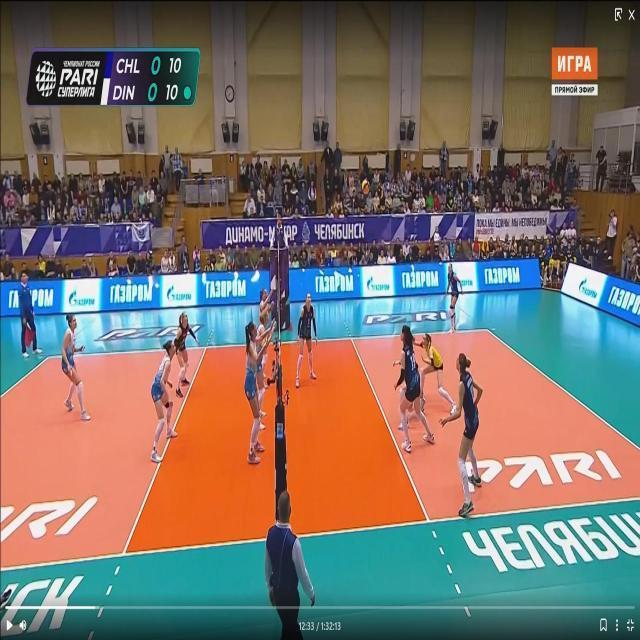volleyball: (362, 180, 369, 193)
